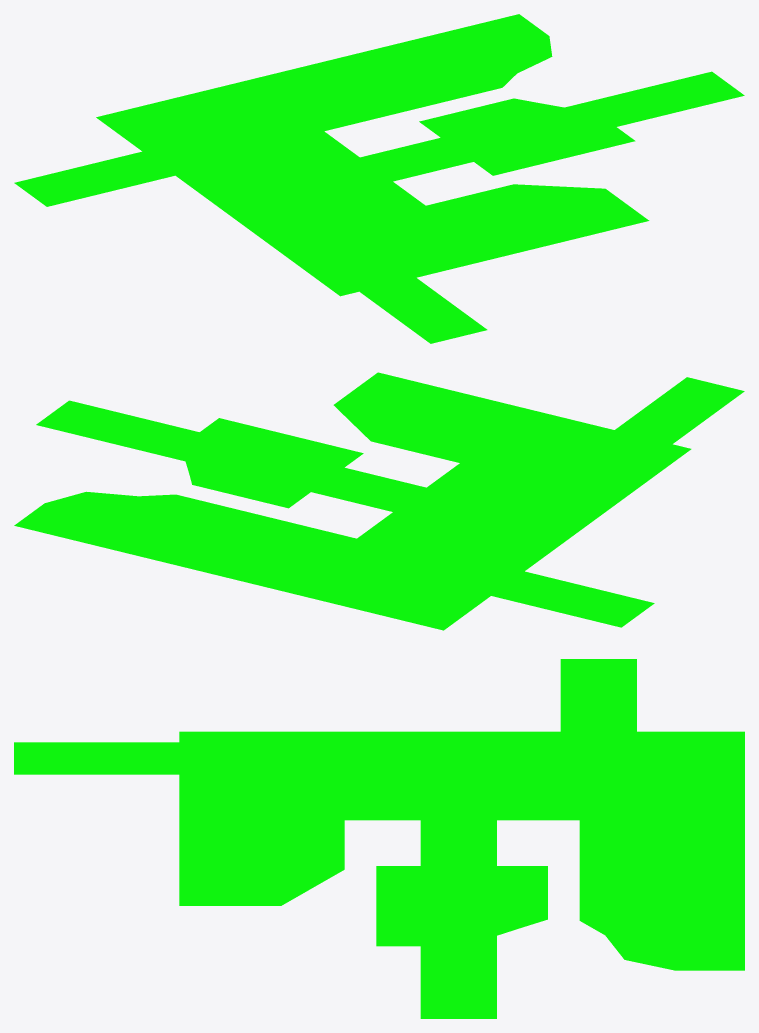
Rendered from s05a_tc3-floor.glb.
The picture shows the model from 3 angles, top to bottom: view 1: azimuth 30°, elevation 25°; view 2: azimuth 150°, elevation 25°; view 3: azimuth 270°, elevation 25°; orthographic projection. The views are drawn at different scales.
Parts seen in each view (by area): view 1: collision_floor-colonly; view 2: collision_floor-colonly; view 3: collision_floor-colonly.
Boxes of the visible parts, x1,y1,x2,y2 form: collision_floor-colonly: (14, 14, 744, 343); collision_floor-colonly: (14, 372, 744, 630); collision_floor-colonly: (14, 659, 744, 1018).
Bounding box in the file's own units: 67 × 0 × 57.5.
